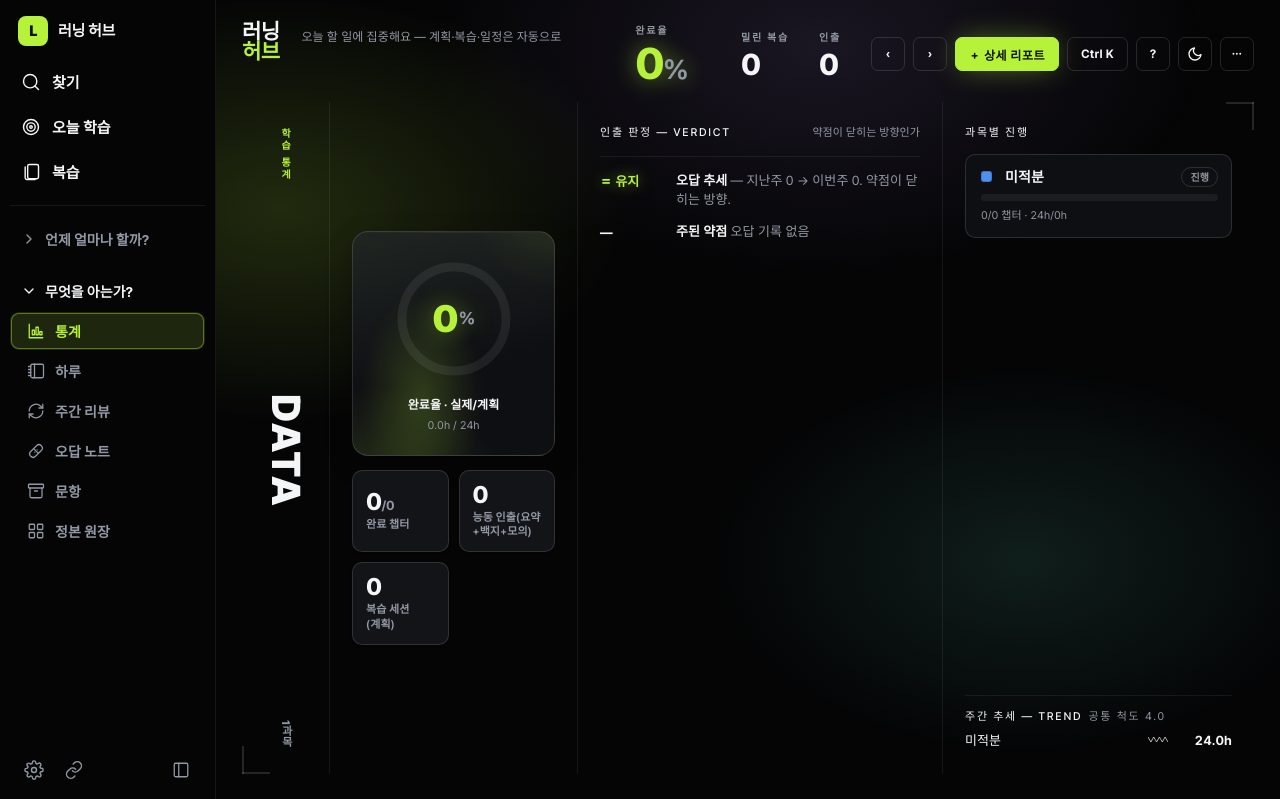
Test case: stats: 상세 리포트 드로어를 열면 차트 위젯들이 마운트된다
Step 1. Click the button "＋ 상세 리포트" → (1007, 54), box [955,37,1059,71]
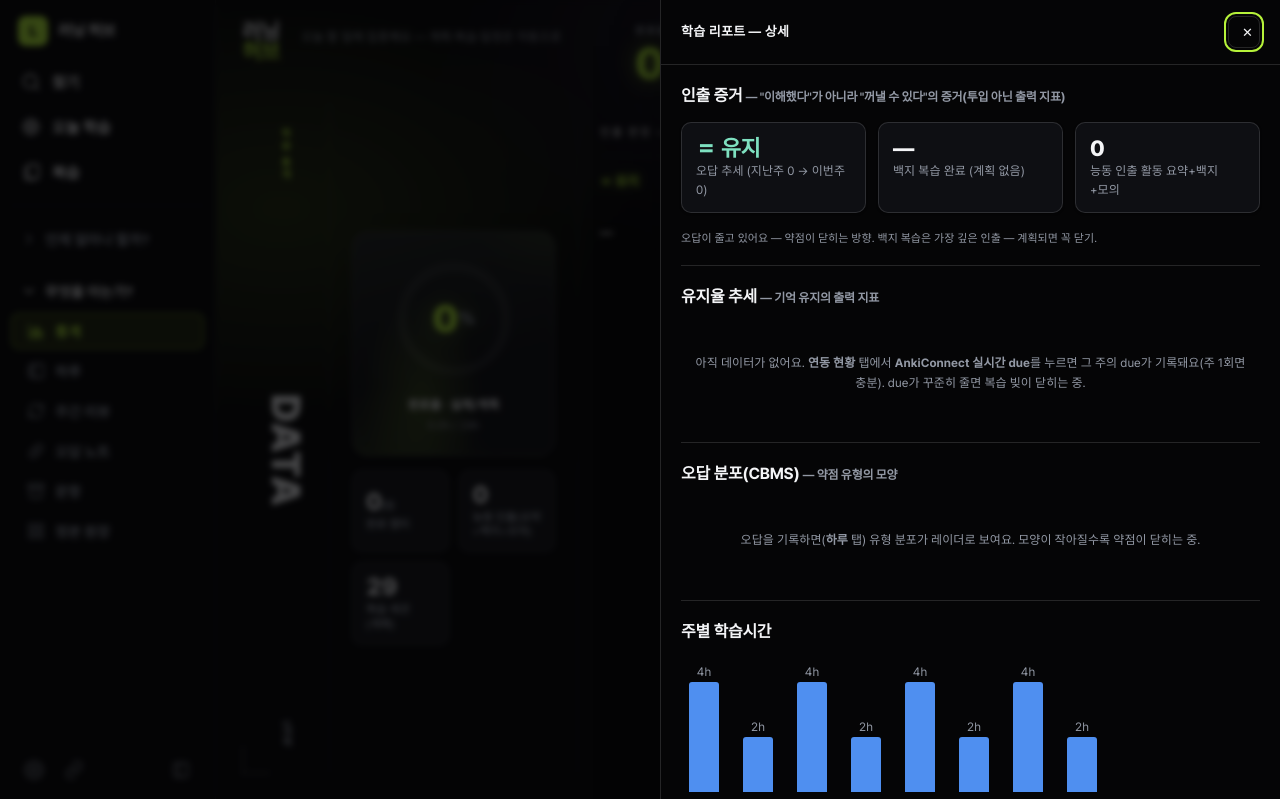
expect the heading "인출 증거 — \"이해했다\"가 아니라 \"꺼낼 수 있다\"의 증거(투입 아닌 출력 지표)" is shown: met, box [681,86,1065,105]
expect the heading "주별 학습시간" is shown: met, box [681,622,771,641]
